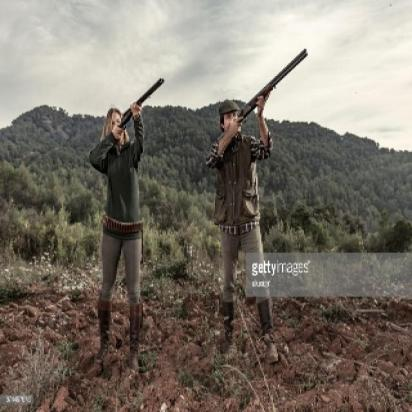Gun: (218, 43, 312, 134), (102, 74, 171, 147)
